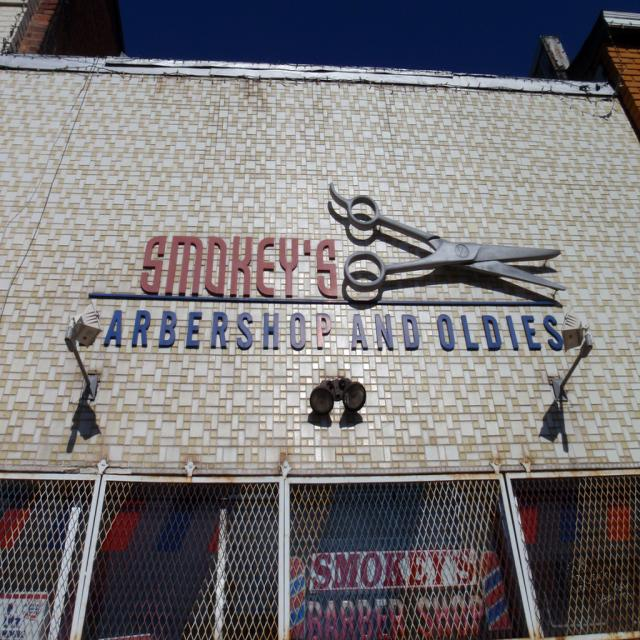scissors: (327, 182, 566, 306)
